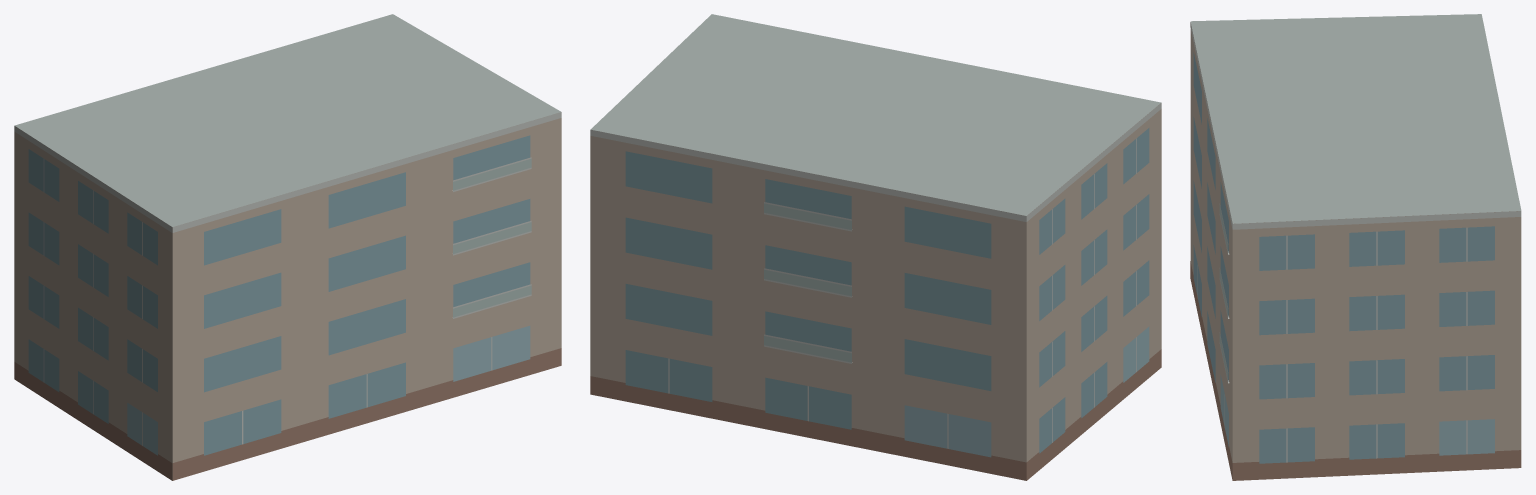
File: survey-upis-32755810.glb
The picture shows the model from 3 angles, left to right: view 1: azimuth 30°, elevation 25°; view 2: azimuth 150°, elevation 25°; view 3: azimuth 270°, elevation 25°; orthographic projection. The views are drawn at different scales.
Parts seen in each view (by area): view 1: survey-upis-32755810.tmp; view 2: survey-upis-32755810.tmp; view 3: survey-upis-32755810.tmp.
Part boxes in pixels (x1,y1,x2,y2): survey-upis-32755810.tmp: (14,14,561,480); survey-upis-32755810.tmp: (590,14,1161,480); survey-upis-32755810.tmp: (1190,14,1521,480).
Bounding box in the file's own units: 18.39 × 10.5 × 12.26.
